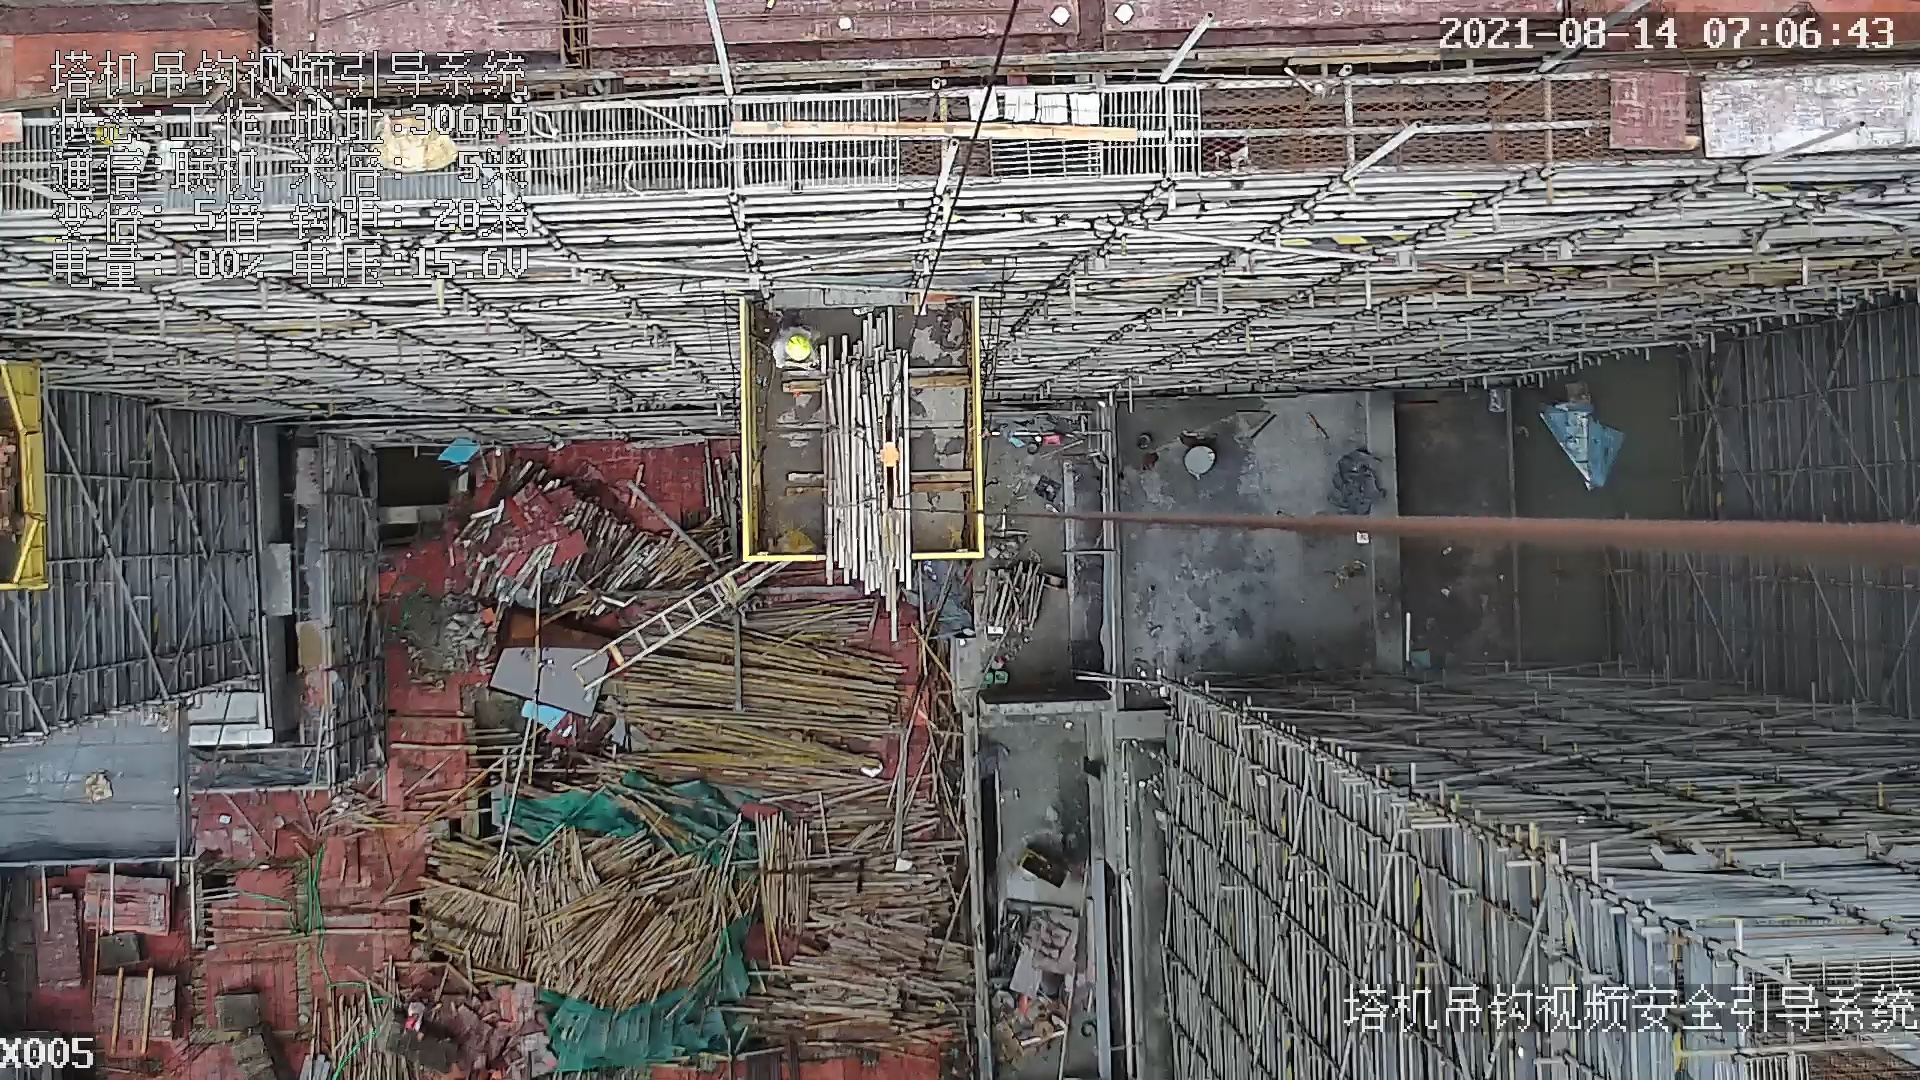helmet: (787, 335, 811, 362)
hook: (872, 406, 905, 519)
person: (762, 327, 822, 367)
